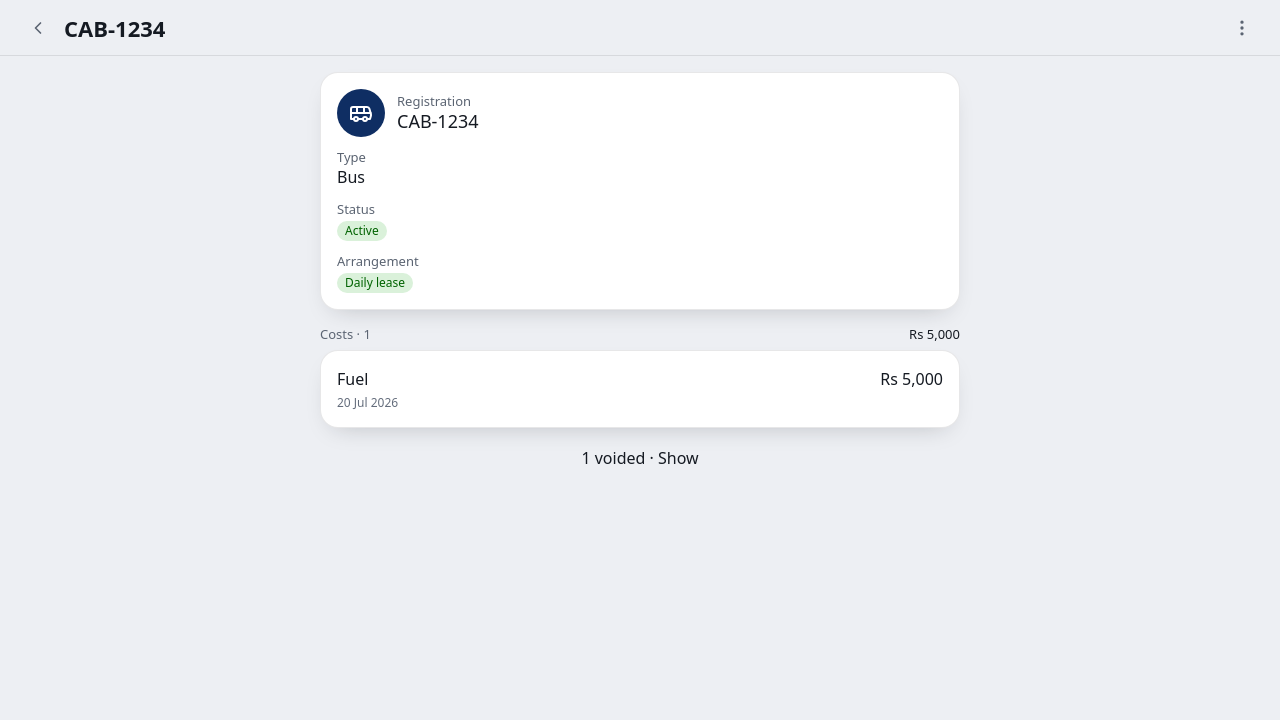
Test: a voided expense is hidden by default behind a labelled toggle, then shows struck through with its reason (W-50/GAP-222)
Expected: the heading "Costs · 1" is shown, [320,326,371,342]
Expected: the text "Fuel" is shown, [337,367,368,391]
Click the button "1 voided · Show" at (640, 458), box [320,436,960,480]
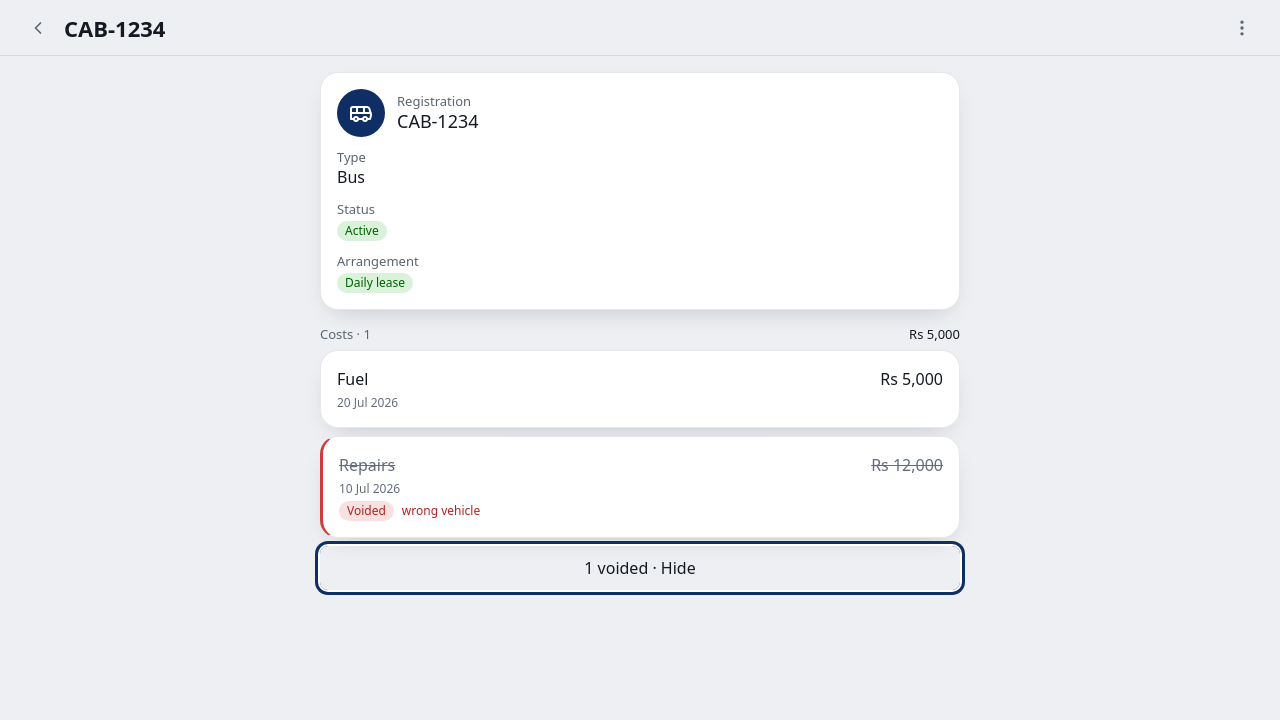
Now the text "Voided" is shown, box [339,501,394,521]
Now the text "wrong vehicle" is shown, box [402,503,480,519]
Now the button "1 voided · Hide" is shown, box [320,546,960,590]
